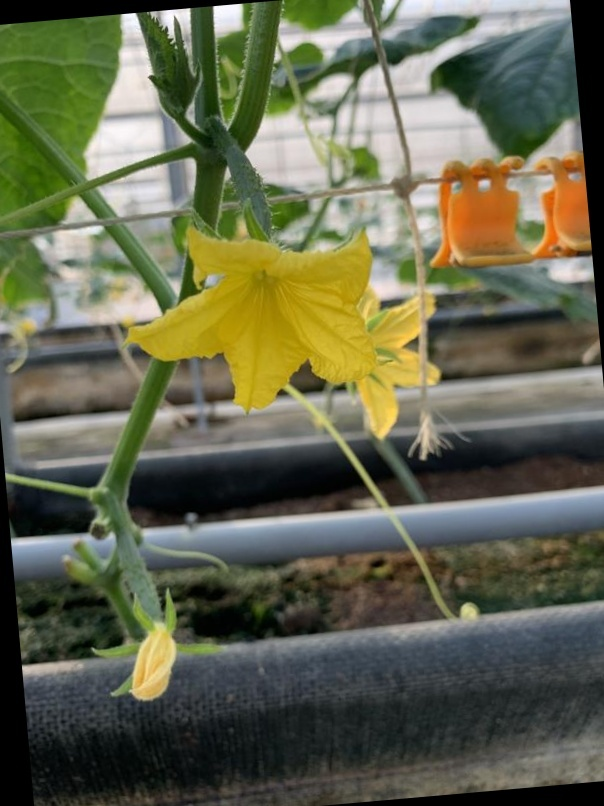flowering: (118, 134, 385, 411)
